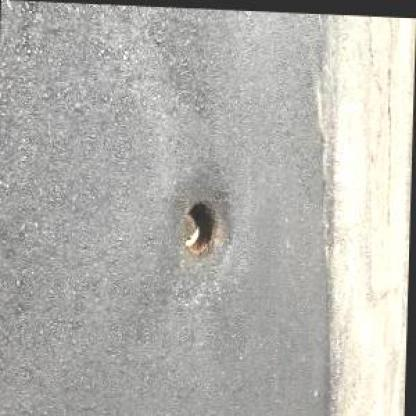pothole: (182, 193, 219, 259)
